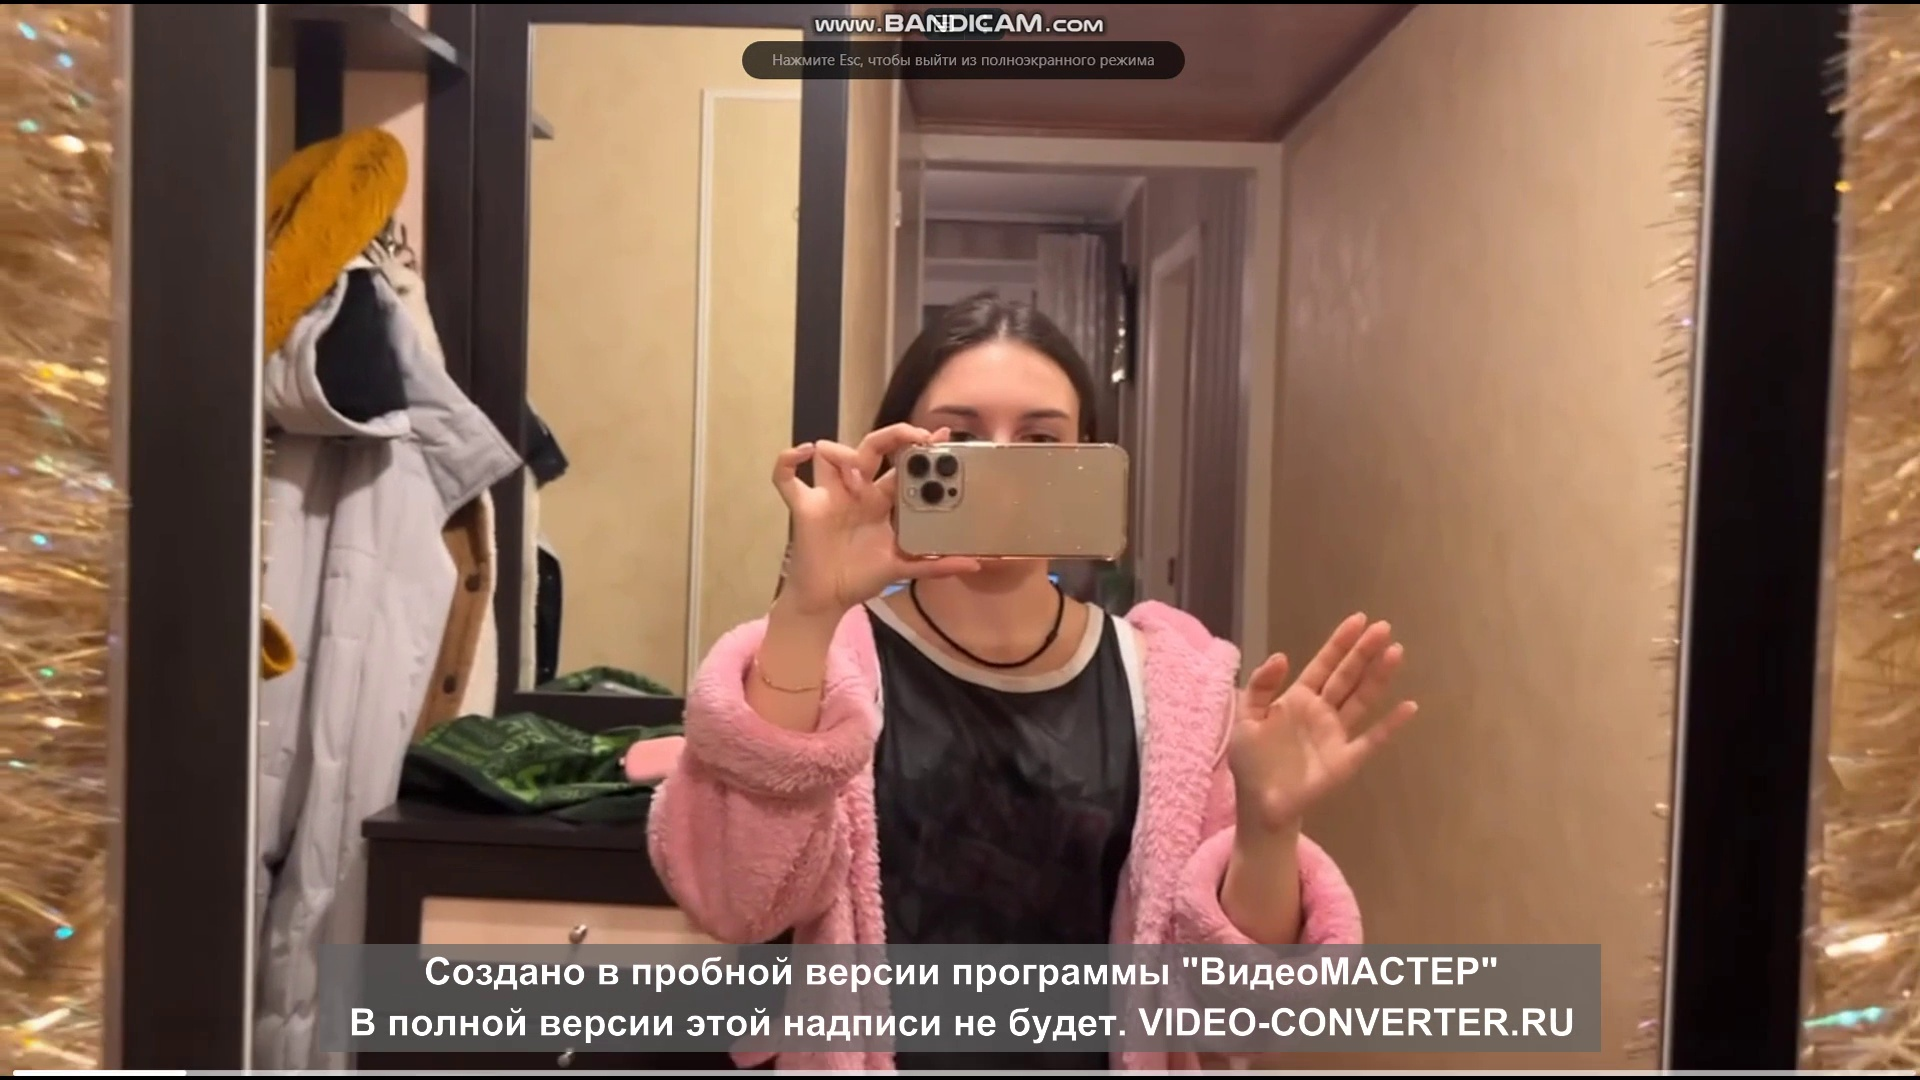Ладонь: (1225, 609, 1422, 831)
